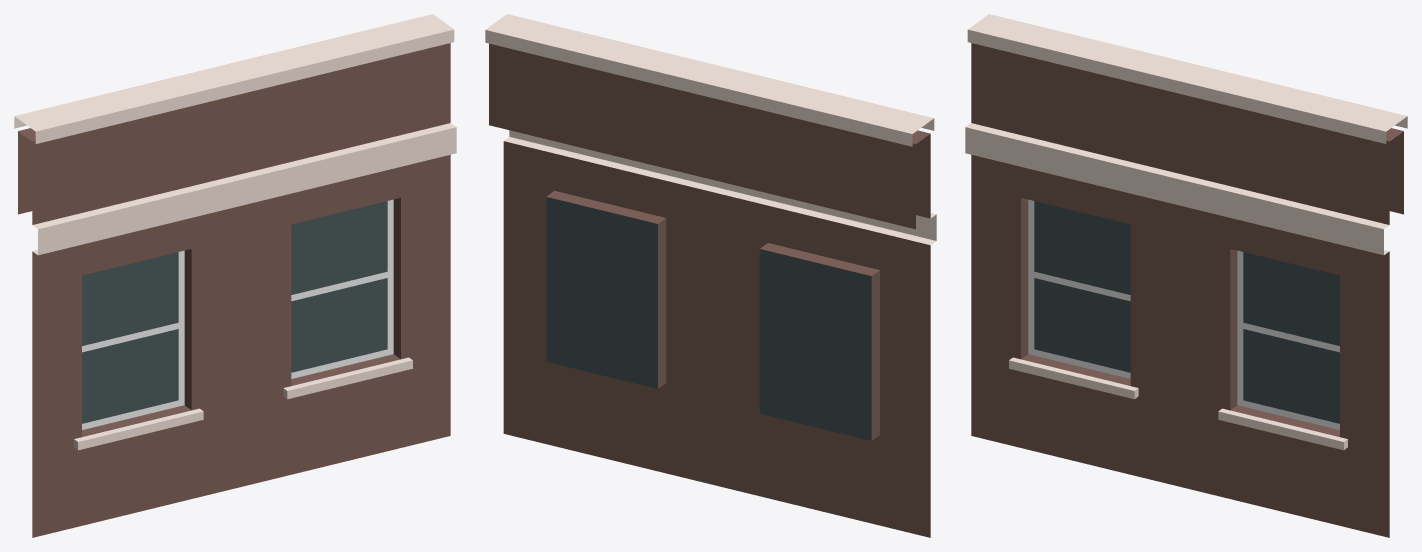
The model's file is top-w1.fbx.
3 views of the same model, side by side, from view 1: azimuth 30°, elevation 25°; view 2: azimuth 150°, elevation 25°; view 3: azimuth 330°, elevation 25° (orthographic). The views are drawn at different scales.
Visible parts, largest first — view 1: a2007/500/top-w1; view 2: a2007/500/top-w1; view 3: a2007/500/top-w1.
Part boxes in pixels (x1,y1,x2,y2): a2007/500/top-w1: [14, 14, 456, 537]; a2007/500/top-w1: [485, 14, 936, 537]; a2007/500/top-w1: [965, 14, 1407, 537].
Bounding box in the file's own units: 4.2 × 3.92 × 0.41.
